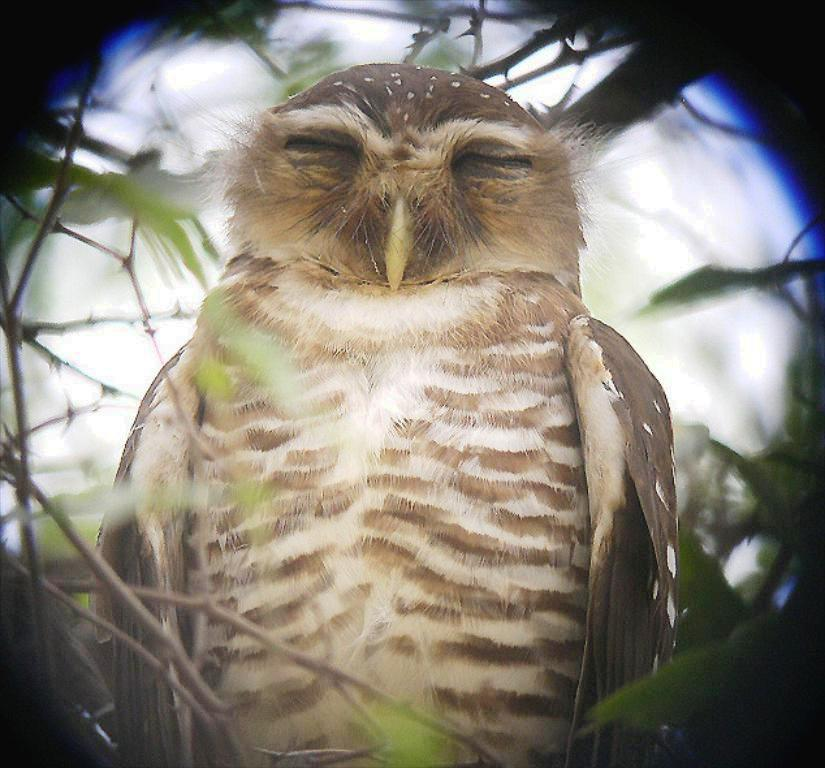Owl: (90, 58, 692, 766)
